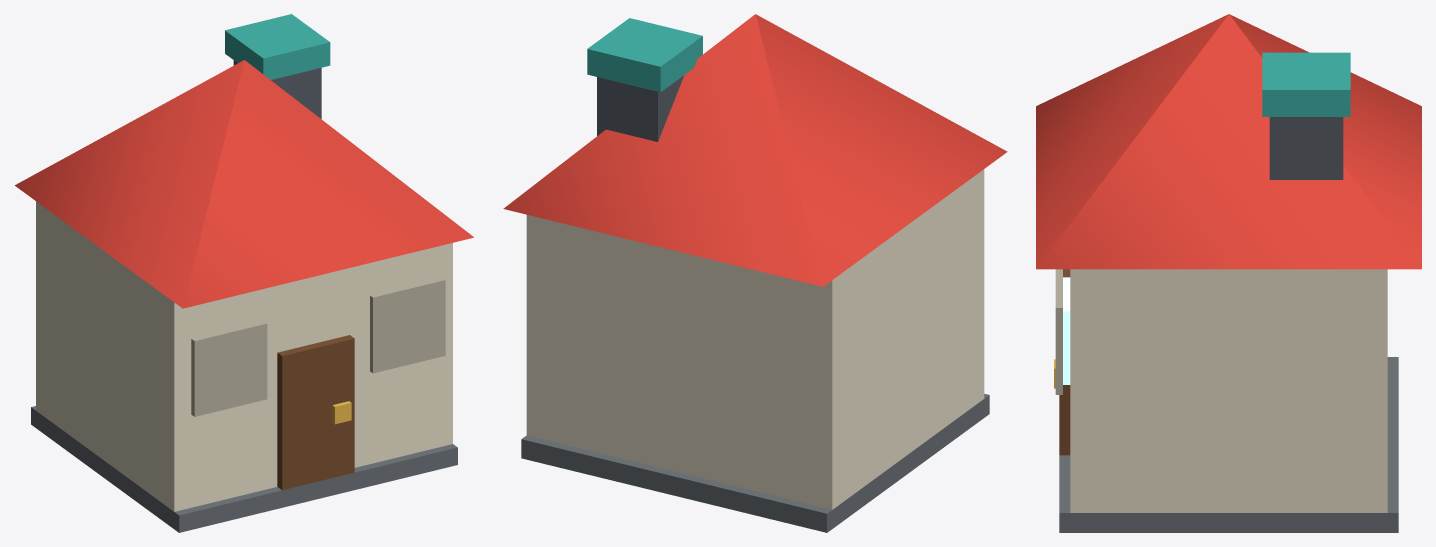
File: scene__house.glb
3 renders of one model, left to right at view 1: azimuth 30°, elevation 25°; view 2: azimuth 150°, elevation 25°; view 3: azimuth 270°, elevation 25°, orthographic. The views are drawn at different scales.
Bounding box in the file's own units: 1.05 × 1.32 × 1.05.
